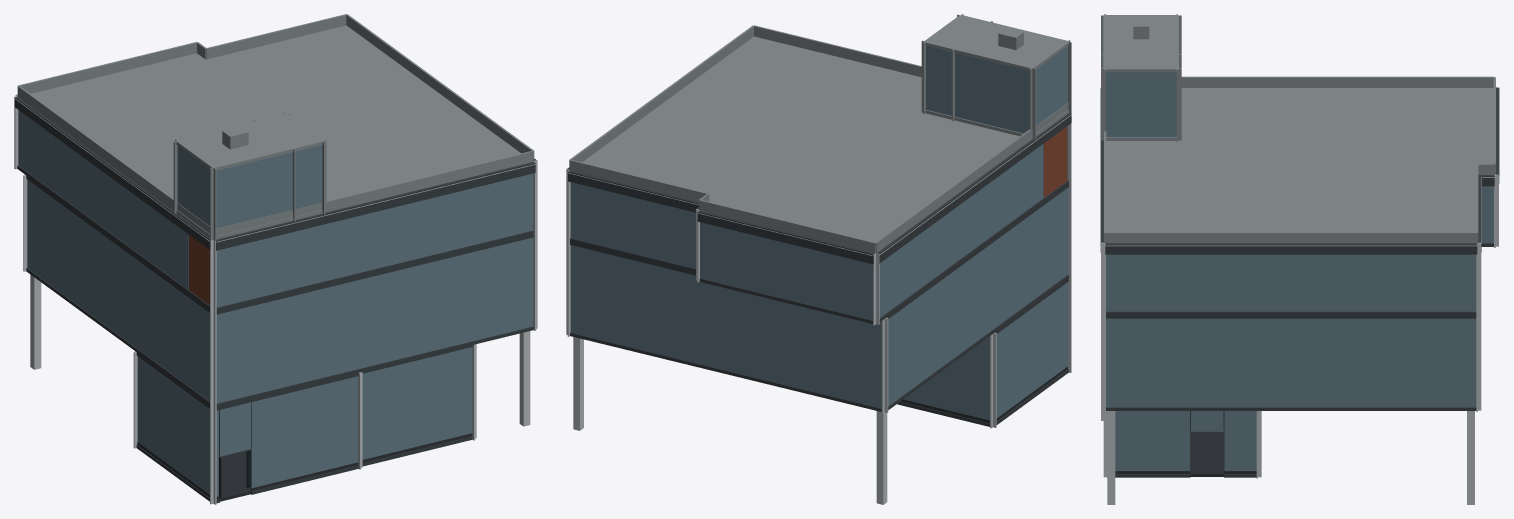
File: building-v1-lod2.glb
3 views of the same model, side by side, from view 1: azimuth 30°, elevation 25°; view 2: azimuth 150°, elevation 25°; view 3: azimuth 270°, elevation 25° (orthographic).
Parts seen in each view (by area): view 1: building-v1_MATERIAL_BATCH; view 2: building-v1_MATERIAL_BATCH; view 3: building-v1_MATERIAL_BATCH.
Part boxes in pixels (x1=…): building-v1_MATERIAL_BATCH: x1=14, y1=14, x2=537, y2=504; building-v1_MATERIAL_BATCH: x1=566, y1=14, x2=1071, y2=504; building-v1_MATERIAL_BATCH: x1=1100, y1=14, x2=1499, y2=504.
Bounding box in the file's own units: 21.45 × 21.8 × 22.7.
